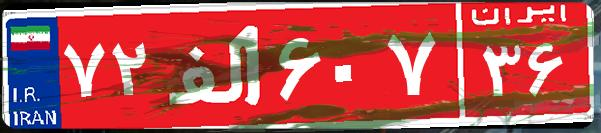0: (330, 28, 385, 110)
2: (110, 28, 158, 105)
3: (475, 38, 525, 113)
6: (273, 28, 330, 110), (525, 38, 570, 115)
7: (385, 28, 445, 110), (57, 26, 110, 107)
الف: (158, 15, 273, 115)
